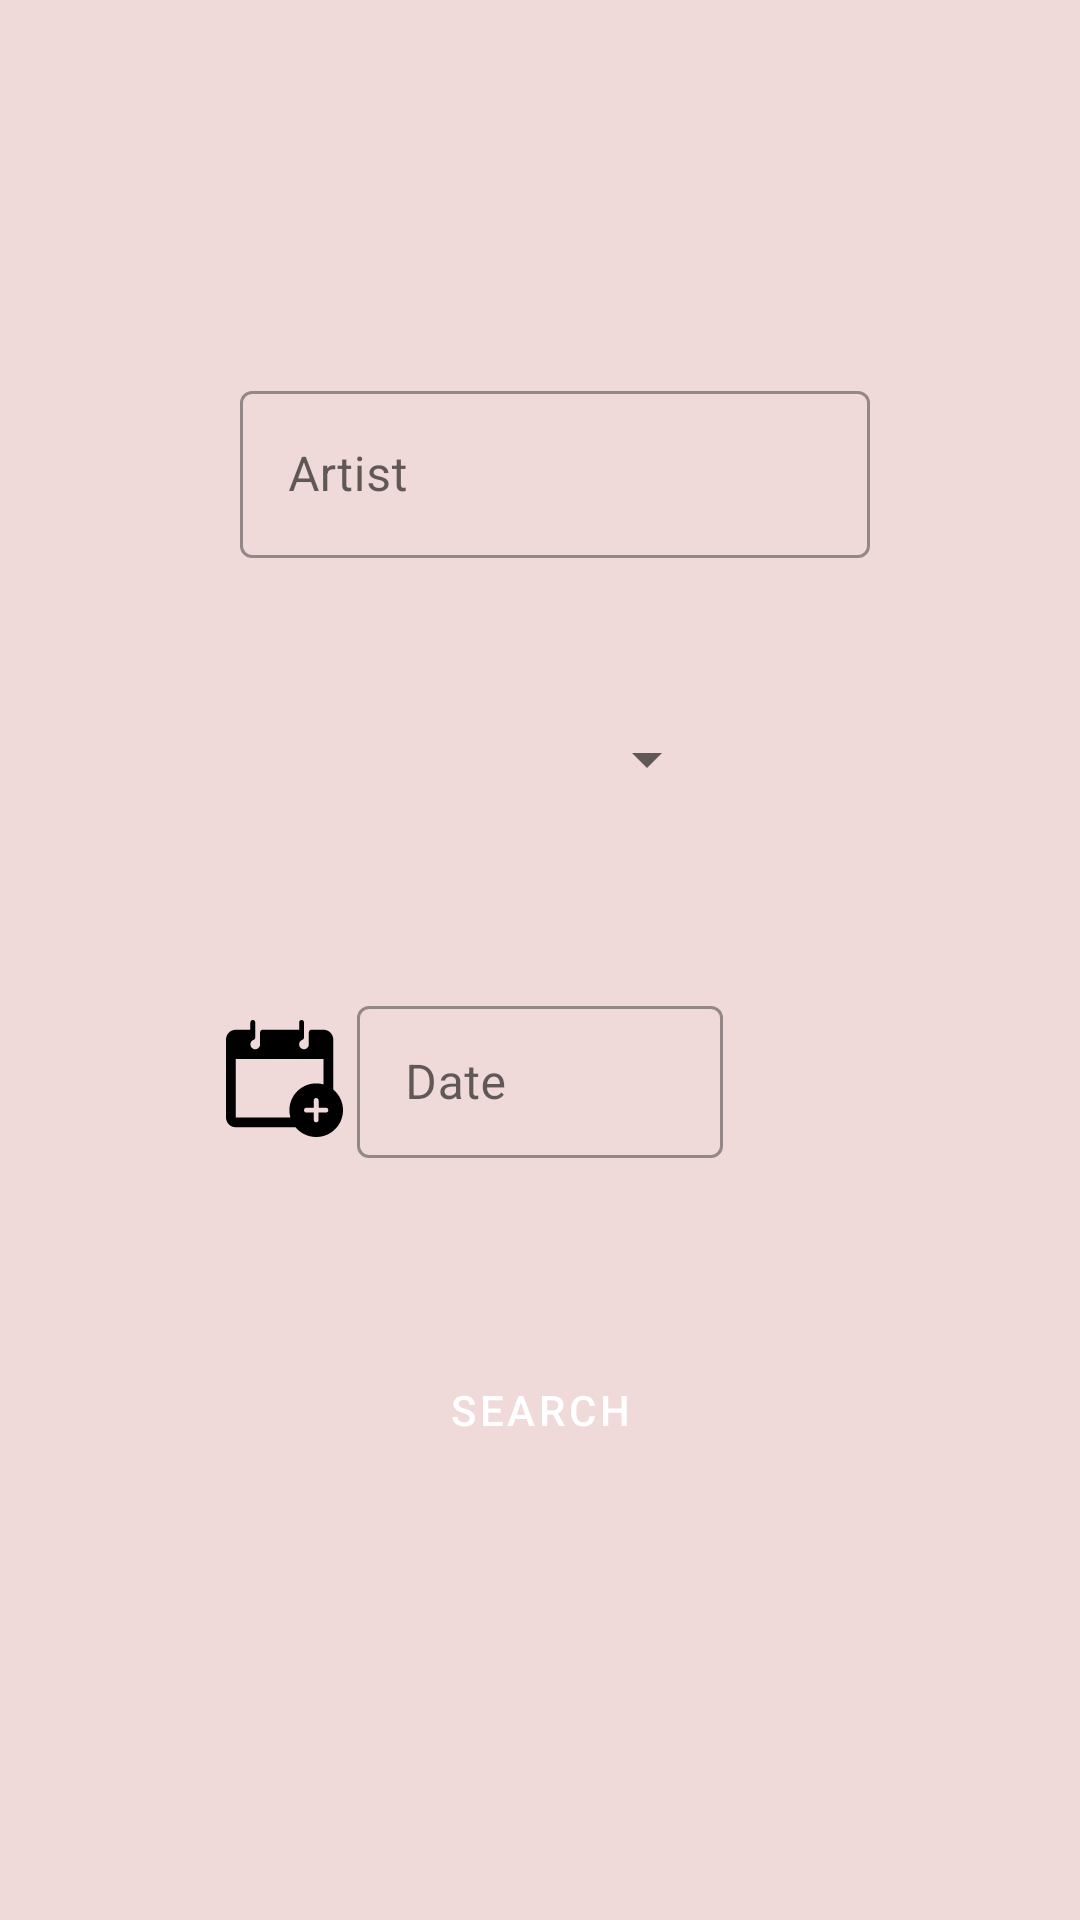

Named icons in this screenshot (1080×1920) and their bounding boxes, (x1, y1, x2, y2):
anadir evento: (226, 1020, 343, 1137)
